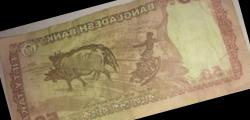50 taka: (12, 1, 228, 120)
